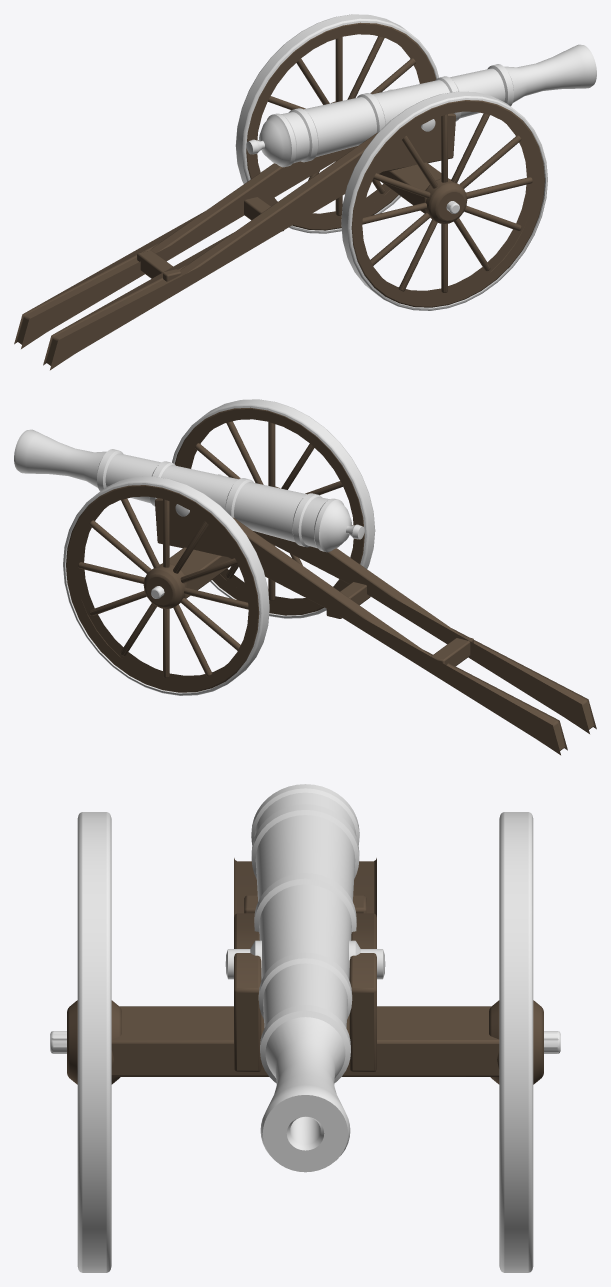
The model's file is SM_MOD_FIELD_GUN_SAHI_A.fbx.
3 renders of one model, top to bottom at view 1: azimuth 30°, elevation 25°; view 2: azimuth 150°, elevation 25°; view 3: azimuth 270°, elevation 25°, orthographic. The views are drawn at different scales.
Parts seen in each view (by area): view 1: MOD_FIELD_GUN_SAHI_A, MOD_FIELD_GUN_SAHI_A_BARREL; view 2: MOD_FIELD_GUN_SAHI_A, MOD_FIELD_GUN_SAHI_A_BARREL; view 3: MOD_FIELD_GUN_SAHI_A, MOD_FIELD_GUN_SAHI_A_BARREL.
Boxes of the visible parts, <box> form: MOD_FIELD_GUN_SAHI_A: <box>14,14,547,370</box>; MOD_FIELD_GUN_SAHI_A_BARREL: <box>246,44,596,167</box>; MOD_FIELD_GUN_SAHI_A: <box>63,399,596,755</box>; MOD_FIELD_GUN_SAHI_A_BARREL: <box>14,429,364,552</box>; MOD_FIELD_GUN_SAHI_A: <box>50,812,560,1272</box>; MOD_FIELD_GUN_SAHI_A_BARREL: <box>225,784,385,1172</box>.
Size of what is drawn, in the model's own units: 3.76 by 1.38 by 1.5.
